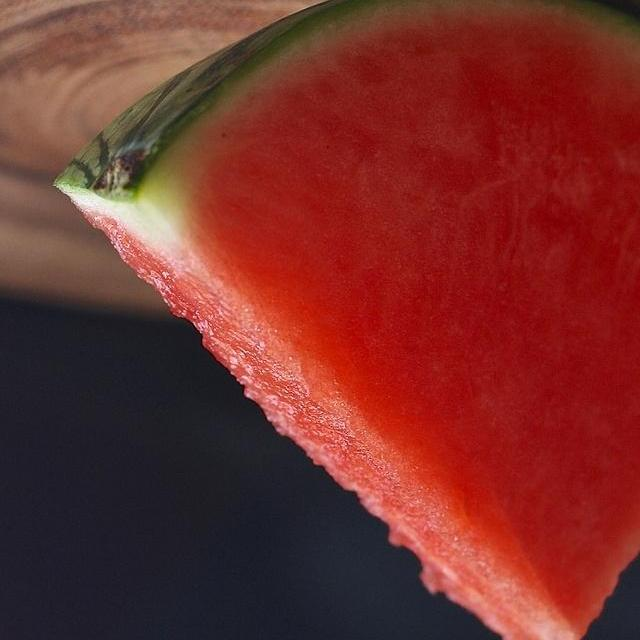watermelon: (41, 0, 640, 640)
